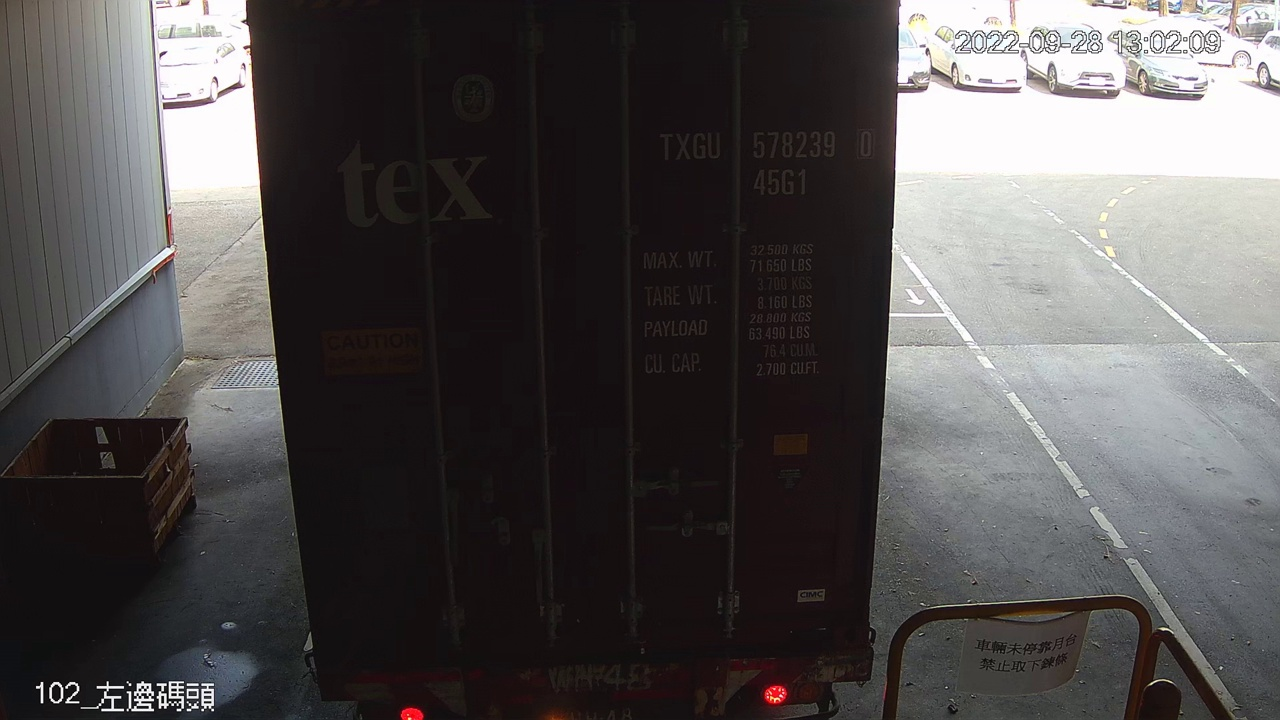container: (648, 123, 881, 203)
